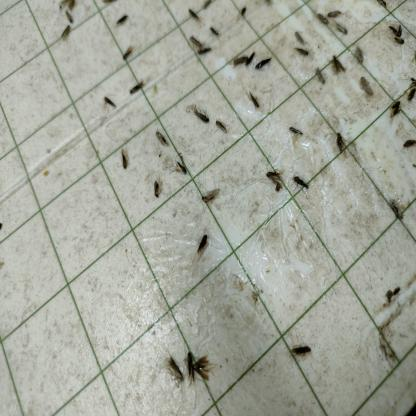prays_oleae: (160, 352, 186, 386), (182, 350, 207, 382), (97, 90, 120, 118), (198, 187, 222, 210), (290, 171, 311, 197), (195, 226, 211, 258), (265, 170, 284, 196), (292, 340, 314, 361), (192, 107, 213, 128), (326, 56, 346, 78), (333, 126, 351, 150), (120, 43, 137, 68), (113, 11, 133, 32), (149, 180, 165, 206), (212, 119, 234, 137), (362, 73, 374, 106), (390, 94, 403, 123), (152, 126, 169, 148), (350, 44, 366, 67), (129, 84, 150, 101), (286, 123, 303, 144), (335, 19, 352, 40), (401, 132, 416, 153), (175, 158, 189, 180), (231, 50, 247, 68), (246, 94, 264, 110), (118, 151, 134, 168), (290, 43, 309, 57), (256, 59, 275, 73), (186, 6, 199, 22), (189, 34, 206, 46), (208, 27, 223, 40), (198, 47, 214, 59), (57, 26, 70, 40), (392, 35, 406, 48), (330, 7, 344, 20), (236, 8, 247, 22), (316, 14, 329, 25)
